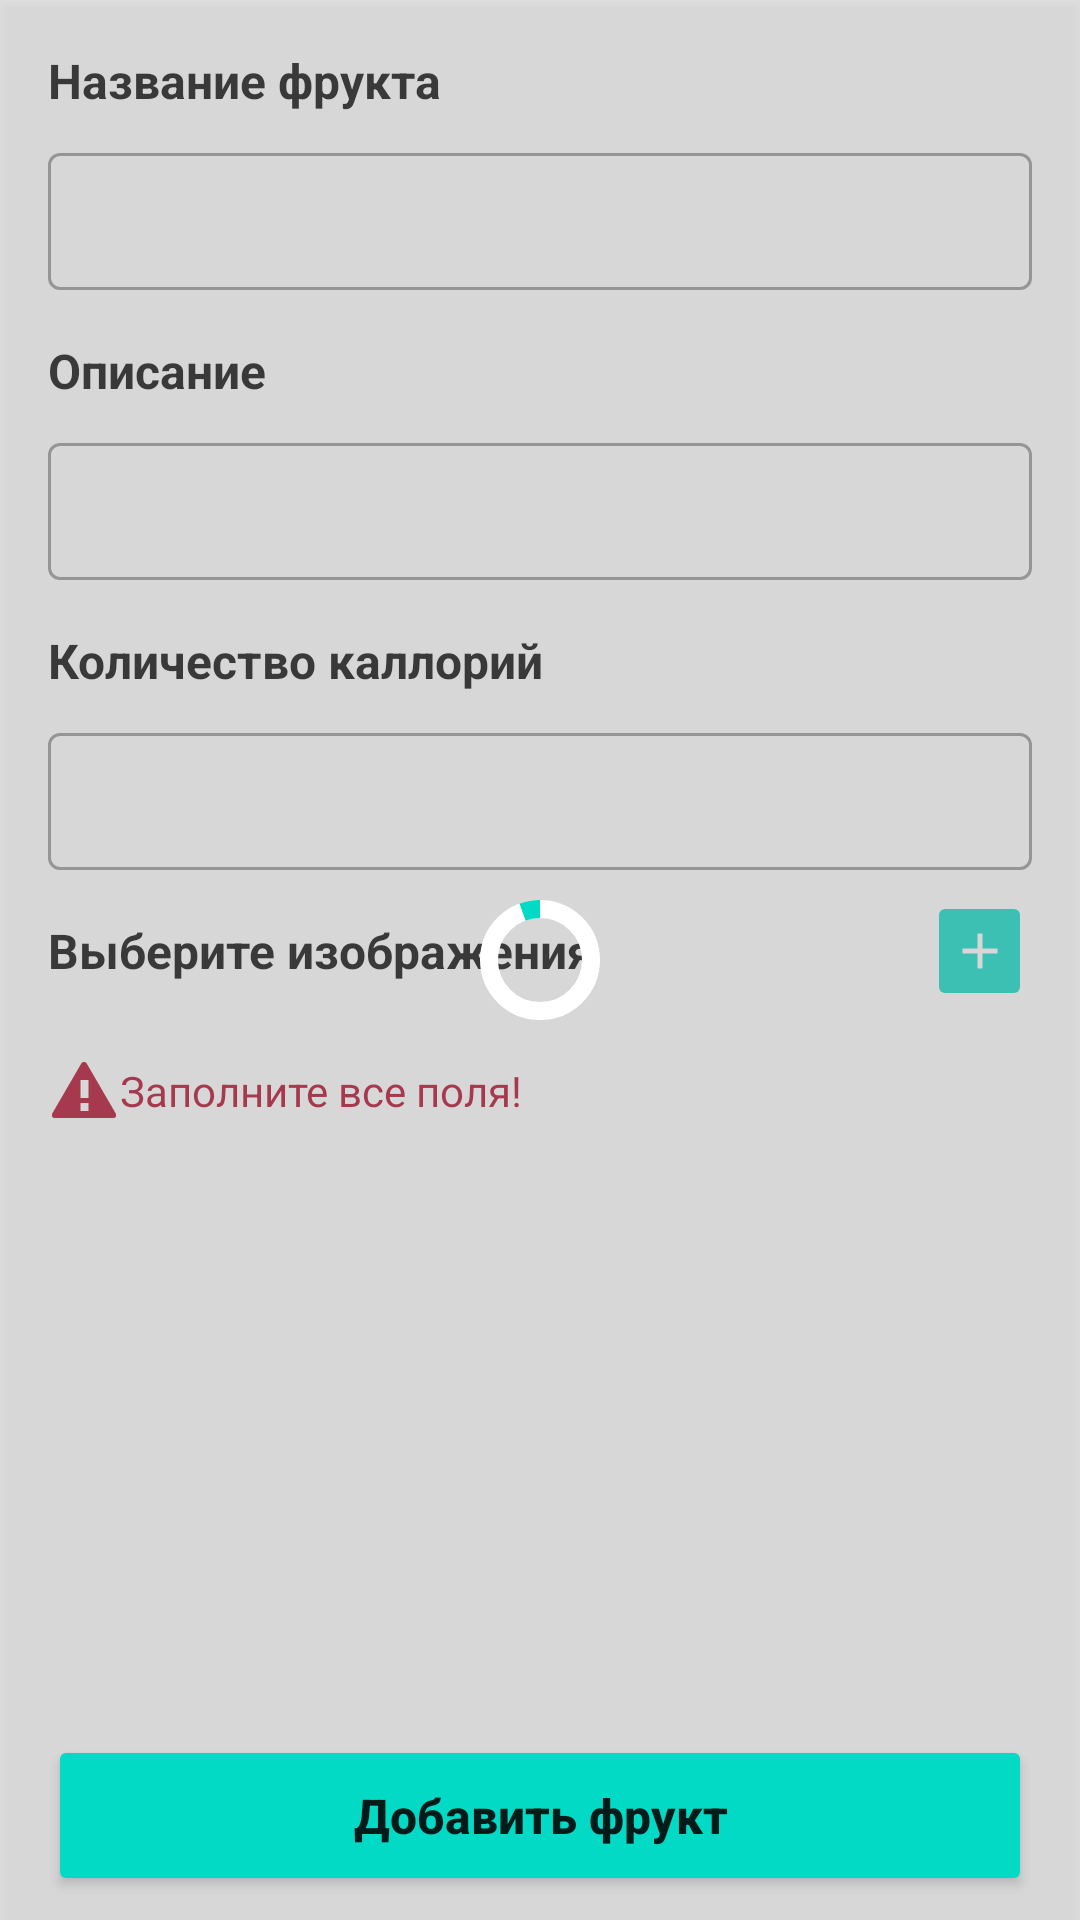

Screen size 1080 x 1920. Icon name, then its center in pixels as (x=x, y=y):
Добавить изображения: (x=979, y=951)
